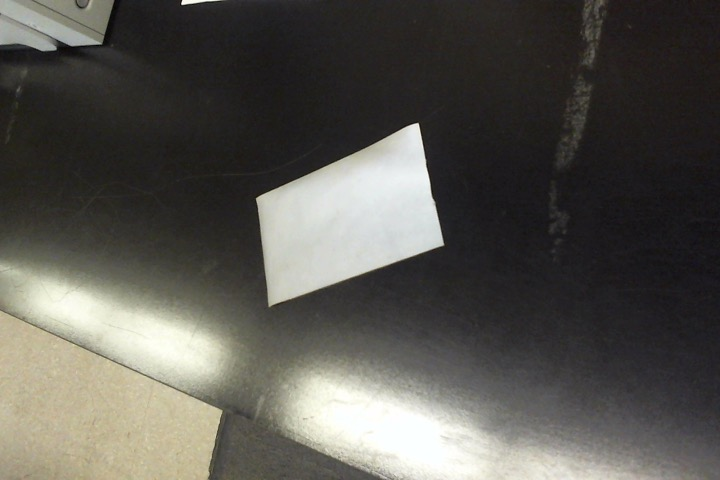Tape: (254, 123, 445, 307)
